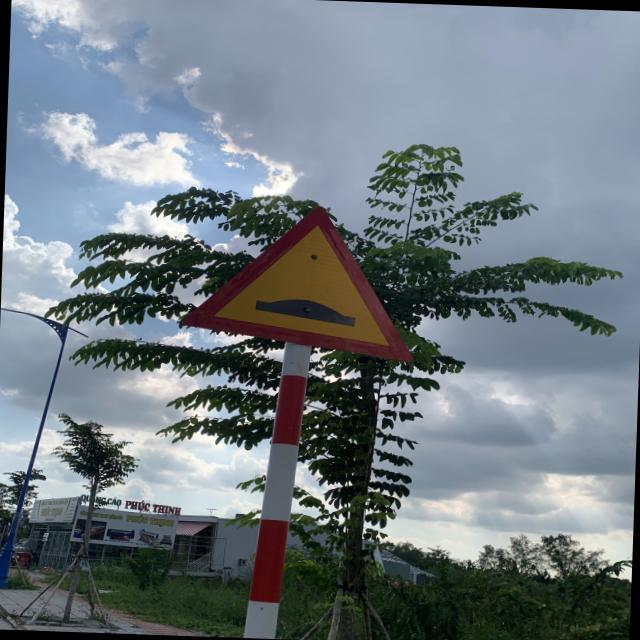Duong_Cong_Ben_Phai: (182, 202, 415, 364)
